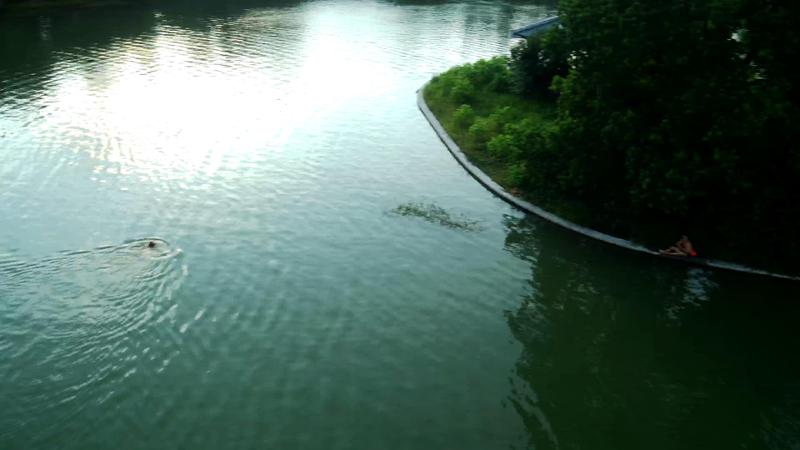sus_swimmers: (659, 234, 693, 256)
swimmers: (136, 241, 157, 262)
